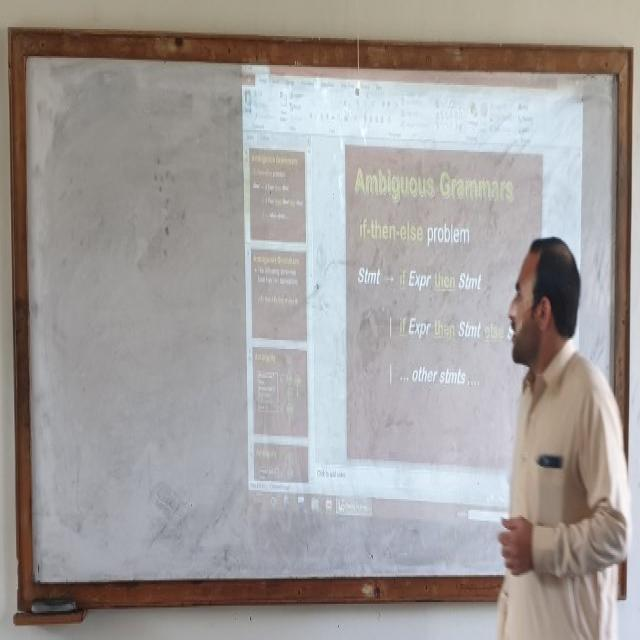Instructor: (495, 237, 618, 636)
Slide: (239, 42, 585, 544)
White-board: (18, 40, 628, 596)
